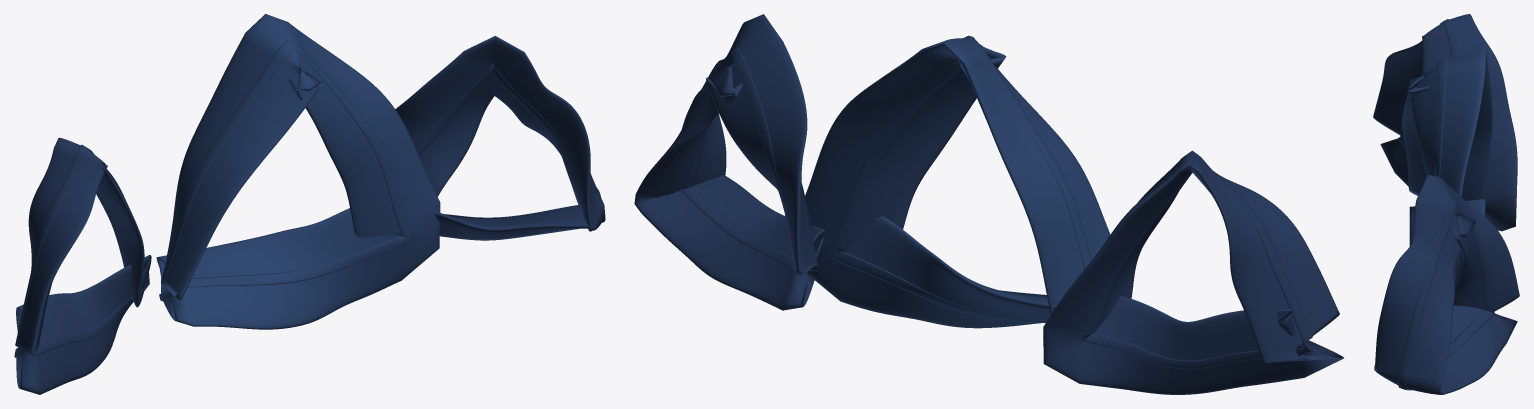
File: loops.glb
The picture shows the model from 3 angles, left to right: view 1: azimuth 30°, elevation 25°; view 2: azimuth 150°, elevation 25°; view 3: azimuth 270°, elevation 25°; orthographic projection. The views are drawn at different scales.
Visible parts, largest first — view 1: Loop_Centre, Loop_Left, Loop_Right; view 2: Loop_Centre, Loop_Left, Loop_Right; view 3: Loop_Right, Loop_Centre, Loop_Left.
Part boxes in pixels (x1,y1,x2,y2): Loop_Centre: (156, 14, 440, 329); Loop_Left: (14, 137, 151, 394); Loop_Right: (395, 36, 605, 240); Loop_Centre: (805, 35, 1110, 328); Loop_Left: (1043, 150, 1343, 394); Loop_Right: (634, 14, 824, 310); Loop_Right: (1374, 175, 1519, 394); Loop_Centre: (1402, 49, 1492, 281); Loop_Left: (1373, 14, 1517, 231).
Bounding box in the file's own units: 4.85 × 2.2 × 1.14.
